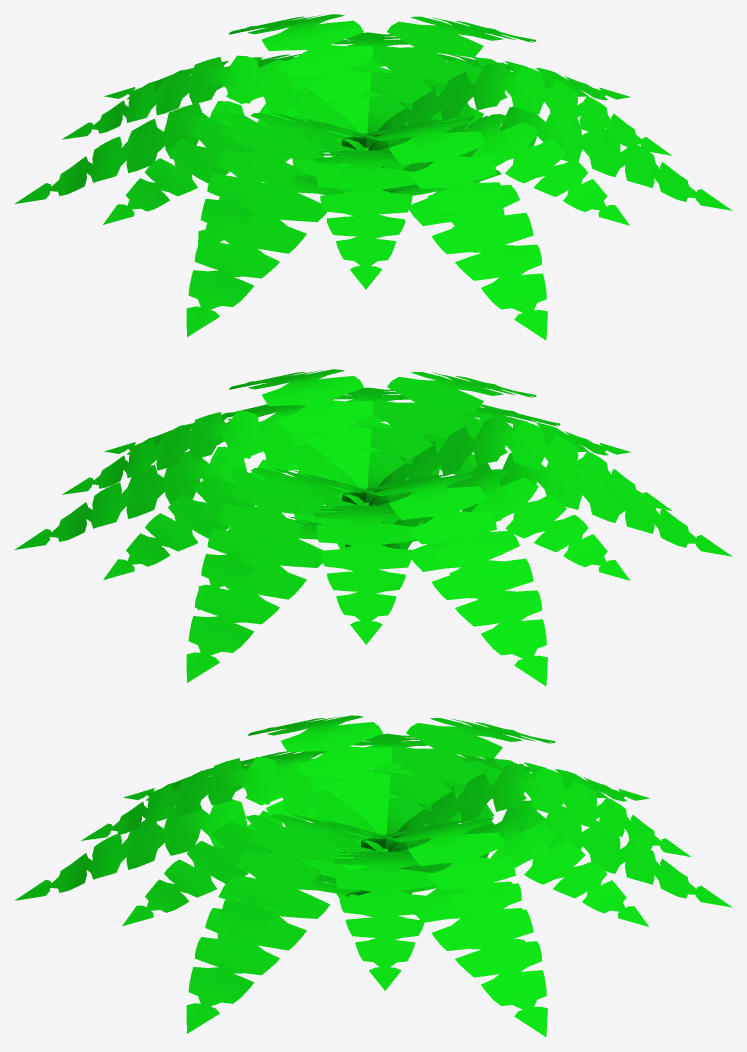
The model's file is Foliage_Bush_1.fbx.
The picture shows the model from 3 angles, top to bottom: view 1: azimuth 30°, elevation 25°; view 2: azimuth 150°, elevation 25°; view 3: azimuth 270°, elevation 25°; orthographic projection.
Parts seen in each view (by area): view 1: Bush_1; view 2: Bush_1; view 3: Bush_1.
Boxes of the visible parts, x1,y1,x2,y2 form: Bush_1: (15,14,732,340); Bush_1: (14,369,732,686); Bush_1: (14,715,732,1036).
Bounding box in the file's own units: 173 × 37.23 × 197.
